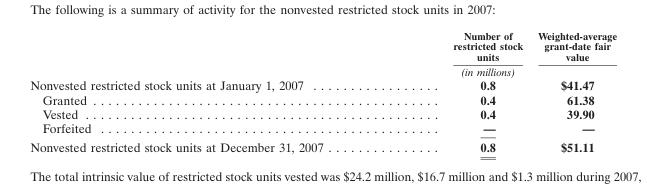table: (29, 29, 616, 154)
table column: (29, 29, 387, 154), (387, 29, 529, 154), (529, 29, 616, 154)
table column header: (29, 29, 616, 77)
table row: (29, 29, 616, 77), (29, 120, 616, 137), (29, 137, 616, 154), (29, 77, 616, 92), (29, 92, 616, 106), (29, 106, 616, 120)
